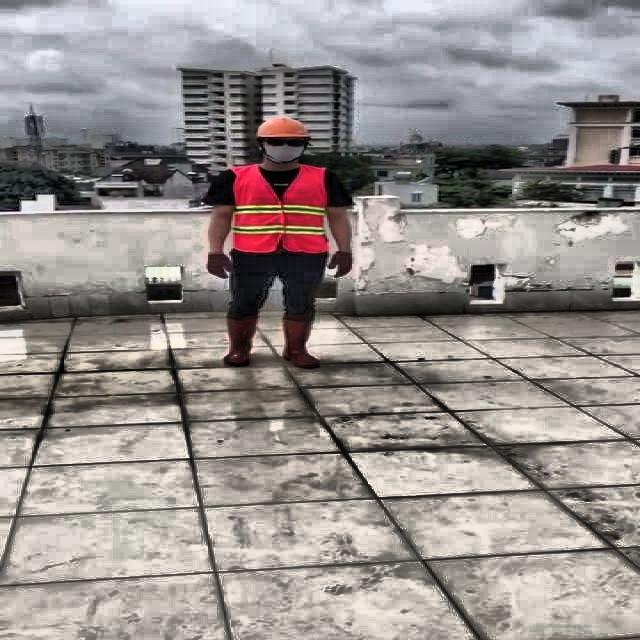safety_helmet: (245, 116, 312, 143)
safety_jacket: (231, 164, 331, 253)
